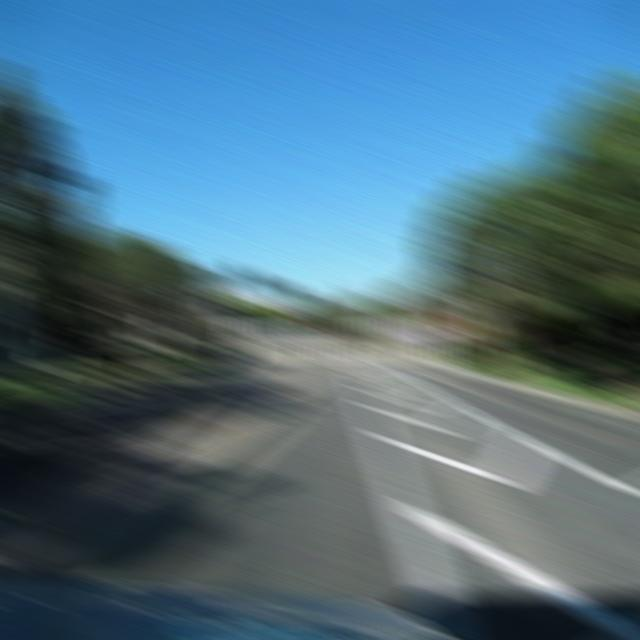stop: (434, 321, 461, 340), (309, 324, 335, 340)
